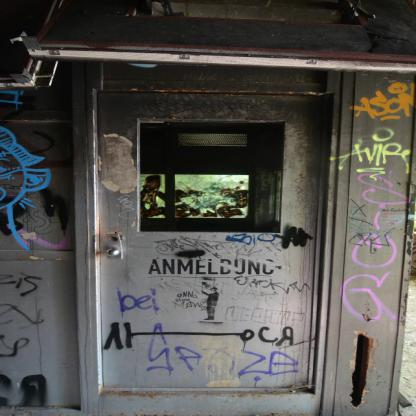door: (99, 94, 310, 385)
knob: (107, 244, 122, 260)
